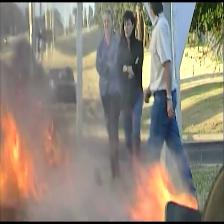fire: (0, 91, 74, 218), (127, 148, 204, 220)
